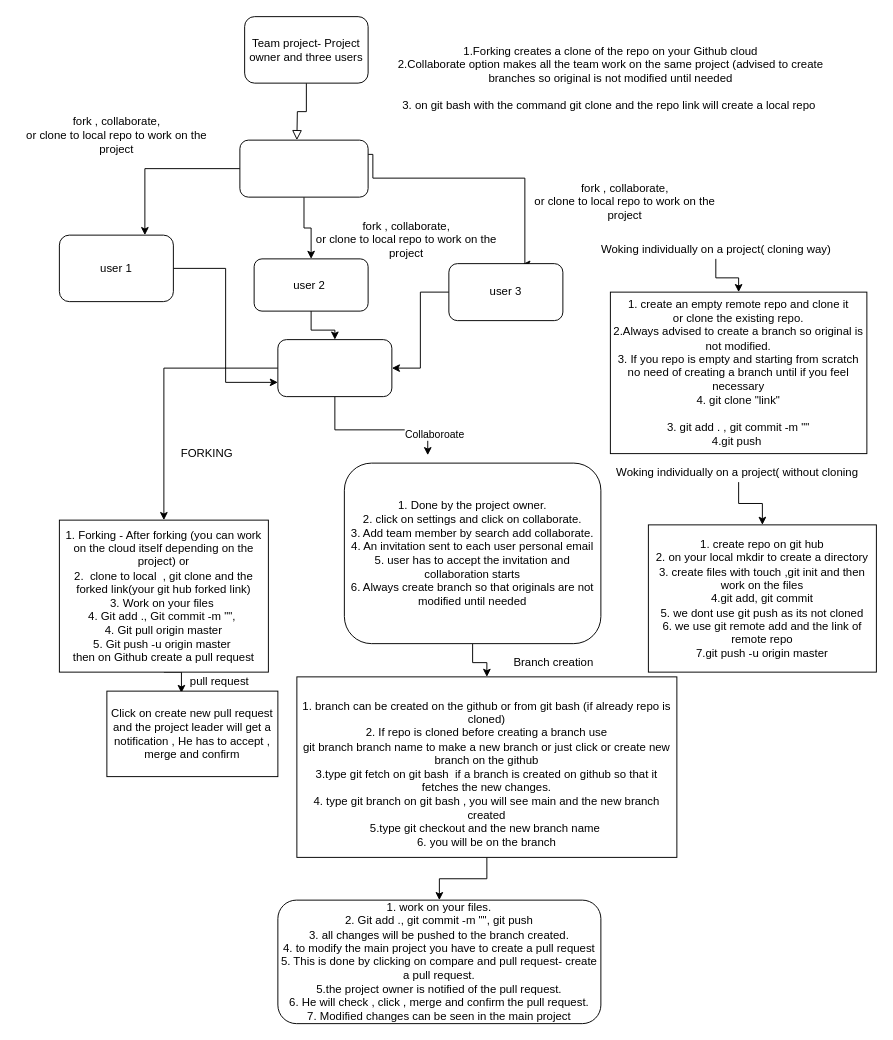
This 893x1040 diagram has some shape labels left out. Each missing label, with the centre of its shape:
"Project owner Repo is on Github" goes at (303,168).
"steps with different methods" goes at (334,368).
